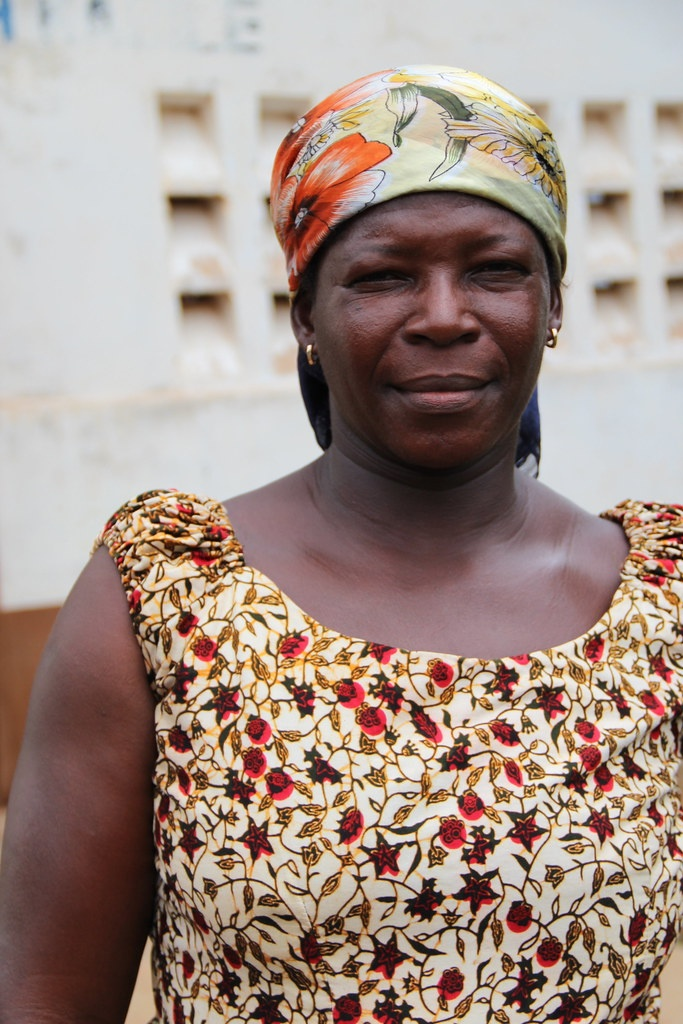without_mask: (288, 184, 571, 467)
